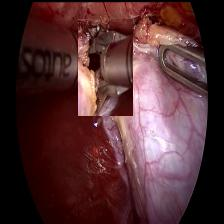Clipper: (77, 18, 131, 114)
Grasper: (150, 22, 211, 107)
